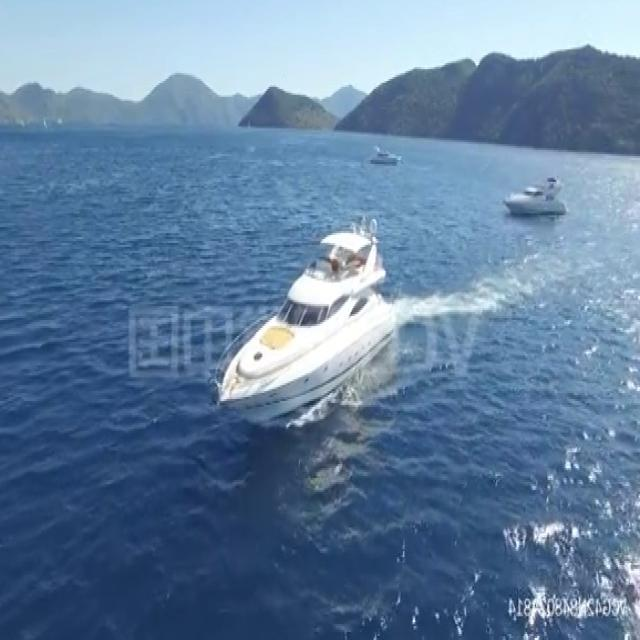houseboat: (214, 216, 394, 411), (506, 164, 566, 212), (369, 141, 405, 164)
